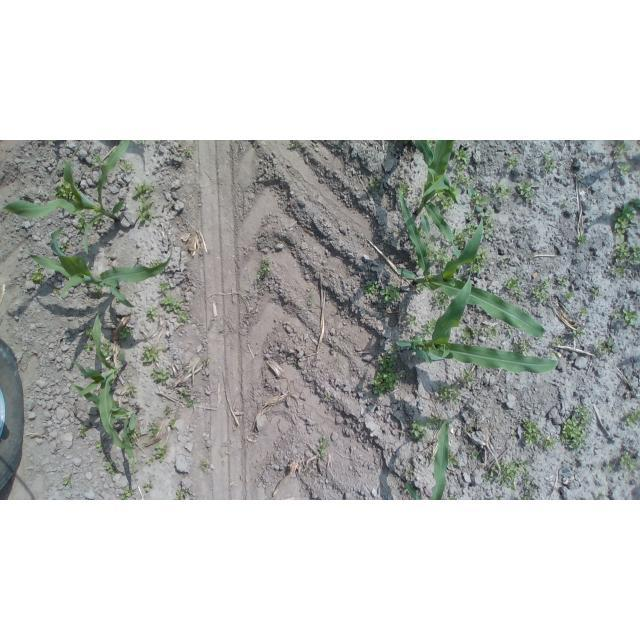Maize: (396, 189, 547, 339), (396, 274, 559, 374), (0, 140, 128, 254), (27, 227, 175, 309), (68, 314, 134, 453), (69, 381, 139, 476), (413, 141, 466, 258), (404, 419, 452, 500)
Weeds: (370, 345, 407, 397), (489, 459, 532, 493), (561, 407, 592, 454), (612, 198, 640, 239), (133, 179, 155, 225), (160, 295, 189, 324), (52, 177, 77, 203), (467, 186, 492, 212), (438, 383, 464, 406), (419, 230, 437, 262), (468, 246, 488, 274), (616, 242, 640, 264), (504, 275, 524, 301), (523, 419, 542, 446), (530, 279, 550, 302), (481, 207, 495, 239), (380, 283, 401, 304), (460, 325, 480, 346), (140, 345, 162, 364), (435, 190, 454, 212), (491, 183, 512, 202), (410, 419, 428, 441), (454, 167, 472, 188), (619, 452, 640, 470), (177, 388, 196, 407), (517, 181, 534, 202), (433, 291, 452, 309), (420, 316, 437, 336), (437, 247, 452, 269), (152, 368, 171, 385), (30, 264, 46, 284), (615, 140, 630, 160), (623, 308, 640, 325), (363, 279, 379, 297), (481, 324, 499, 340), (514, 339, 530, 357), (595, 338, 613, 354), (446, 446, 460, 466), (451, 229, 465, 249), (543, 149, 555, 172), (156, 443, 171, 461), (454, 147, 469, 165), (256, 260, 269, 280), (624, 411, 640, 427), (540, 437, 557, 452), (460, 370, 475, 386), (99, 340, 113, 357), (318, 436, 327, 461), (463, 223, 478, 238), (425, 415, 441, 429), (610, 264, 626, 278), (396, 179, 408, 197), (118, 160, 134, 173), (146, 306, 159, 322), (77, 212, 87, 232), (368, 175, 382, 189), (119, 327, 134, 340), (521, 487, 536, 500), (617, 163, 631, 176), (175, 488, 190, 500), (468, 446, 480, 461), (465, 422, 477, 437), (506, 155, 518, 170), (121, 487, 134, 500), (93, 156, 107, 168), (103, 464, 117, 476), (450, 183, 462, 197), (426, 140, 438, 154), (147, 425, 159, 438), (129, 432, 141, 445), (572, 327, 585, 339), (157, 280, 169, 292), (126, 384, 137, 396), (577, 233, 588, 245), (61, 476, 72, 488), (407, 315, 417, 328), (95, 441, 105, 453), (558, 276, 568, 288), (82, 342, 94, 352), (85, 326, 94, 339), (58, 242, 68, 253), (549, 349, 560, 359), (553, 336, 564, 346), (416, 284, 428, 292), (182, 148, 192, 157), (168, 419, 177, 429), (579, 308, 589, 317), (79, 425, 86, 437), (507, 324, 514, 336), (424, 214, 433, 223), (412, 200, 421, 209), (93, 284, 102, 293), (95, 218, 105, 226), (563, 292, 573, 300), (144, 483, 152, 492), (201, 459, 209, 468), (404, 468, 413, 476), (453, 273, 462, 281), (149, 261, 159, 268), (147, 457, 155, 465), (591, 289, 599, 297), (612, 311, 620, 319), (419, 182, 426, 191), (163, 407, 172, 414), (160, 266, 168, 273), (484, 473, 489, 483), (502, 260, 509, 267), (466, 214, 473, 221), (92, 210, 100, 216), (429, 455, 435, 463), (104, 455, 111, 461), (563, 201, 569, 208), (509, 434, 516, 440), (139, 140, 147, 145), (447, 496, 457, 500), (288, 143, 296, 148), (53, 287, 59, 293), (306, 299, 312, 305), (292, 360, 297, 366), (384, 313, 389, 318), (608, 464, 613, 469), (120, 292, 125, 297), (530, 254, 535, 259), (207, 358, 211, 364), (458, 264, 463, 268), (116, 298, 120, 303), (61, 230, 64, 235)
